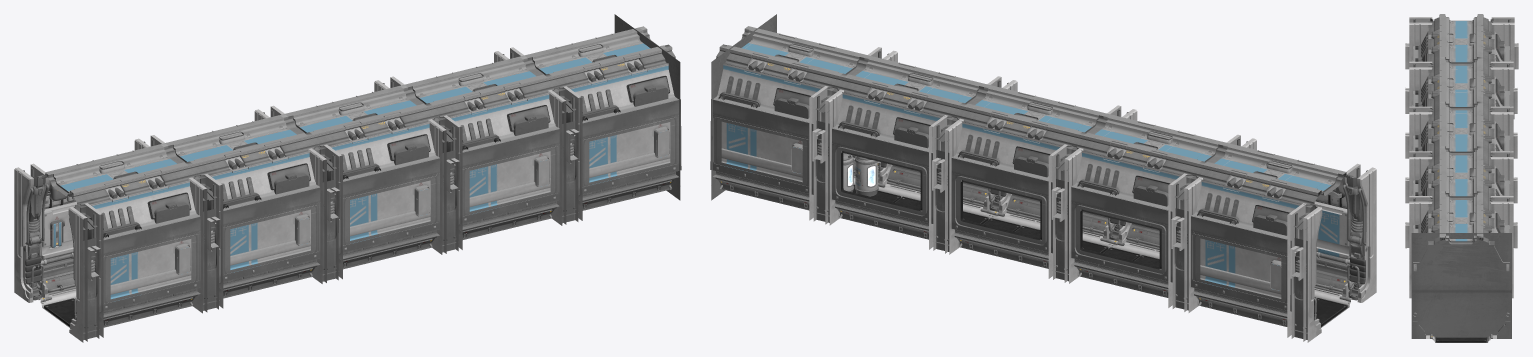
Rendered from spaceship_corridor.glb.
The picture shows the model from 3 angles, left to right: view 1: azimuth 30°, elevation 25°; view 2: azimuth 150°, elevation 25°; view 3: azimuth 270°, elevation 25°; orthographic projection. The views are drawn at different scales.
Parts seen in each view (by area): view 1: Object033_01 - Default_0 (×2); view 2: Object033_01 - Default_0 (×2); view 3: Object033_01 - Default_0 (×2).
Boxes of the visible parts, x1,y1,x2,y2 form: Object033_01 - Default_0 (×2): [14, 14, 681, 342]; Object033_01 - Default_0 (×2): [710, 14, 1376, 342]; Object033_01 - Default_0 (×2): [1405, 14, 1518, 342].
Size of the model in its own units: 14.81 by 3.23 by 3.12.
Materials: 6 (1 with a texture image).
